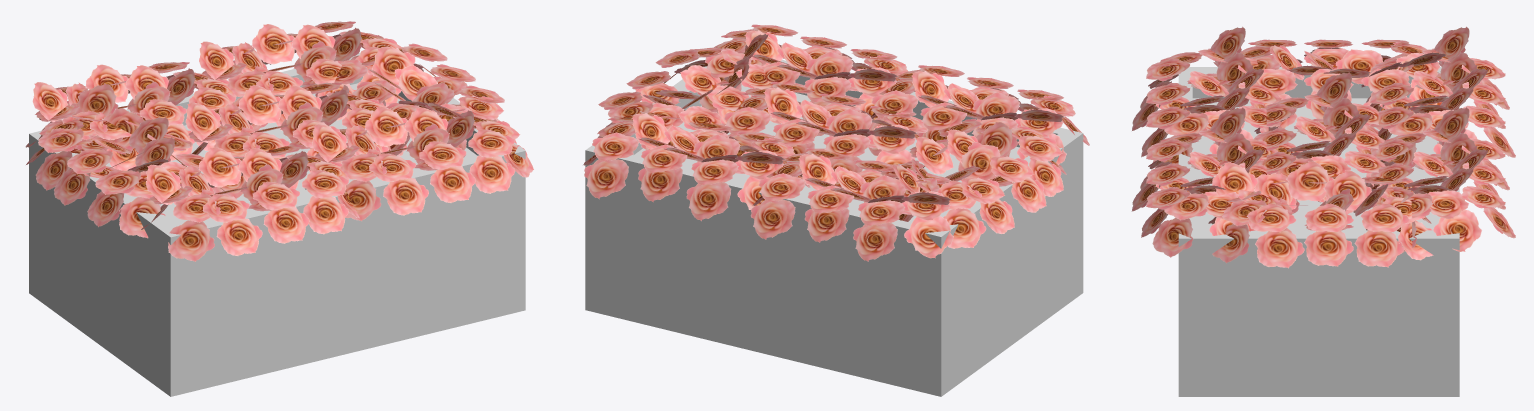
File: FlowerPotPink.fbx
3 renders of one model, left to right at view 1: azimuth 30°, elevation 25°; view 2: azimuth 150°, elevation 25°; view 3: azimuth 270°, elevation 25°, orthographic.
Visible parts, largest first — view 1: FlowerPotPink; view 2: FlowerPotPink; view 3: FlowerPotPink.
Part boxes in pixels (bbox=[...]): FlowerPotPink: bbox=[25, 21, 533, 396]; FlowerPotPink: bbox=[583, 24, 1089, 396]; FlowerPotPink: bbox=[1131, 26, 1515, 396].
Size of the model in its own units: 24.48 by 11.33 by 19.48.
